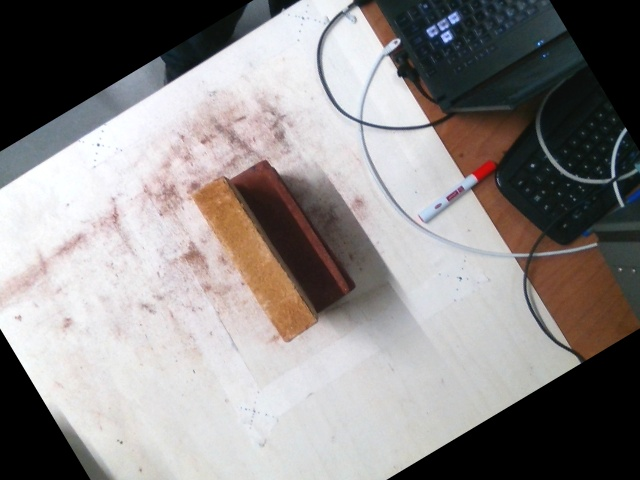brick-side: (193, 177, 316, 343)
